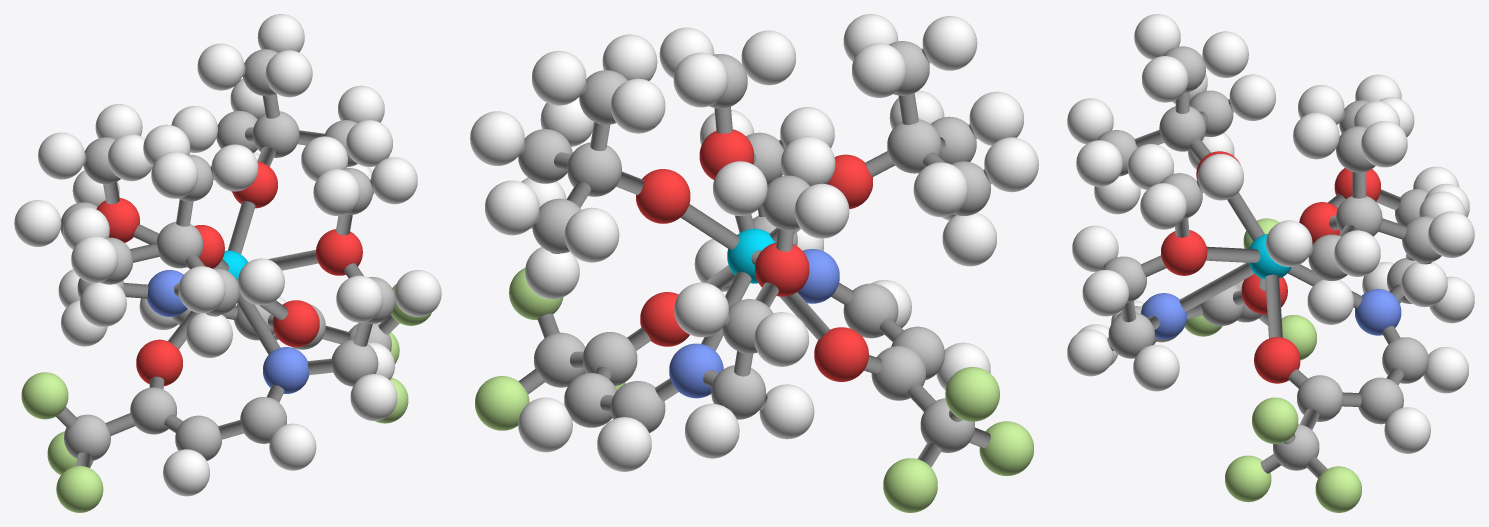
The picture shows the model from 3 angles, left to right: view 1: azimuth 30°, elevation 25°; view 2: azimuth 150°, elevation 25°; view 3: azimuth 270°, elevation 25°; orthographic projection. The views are drawn at different scales.
Visible parts, largest first — view 1: mo_lichtenberg_mam023_0m; view 2: mo_lichtenberg_mam023_0m; view 3: mo_lichtenberg_mam023_0m.
Part boxes in pixels (box(x1,y1,x2,y2)): mo_lichtenberg_mam023_0m: box(14, 14, 441, 512); mo_lichtenberg_mam023_0m: box(470, 14, 1038, 512); mo_lichtenberg_mam023_0m: box(1067, 14, 1474, 512).
Bounding box in the file's own units: 10.08 × 8.52 × 8.74.
